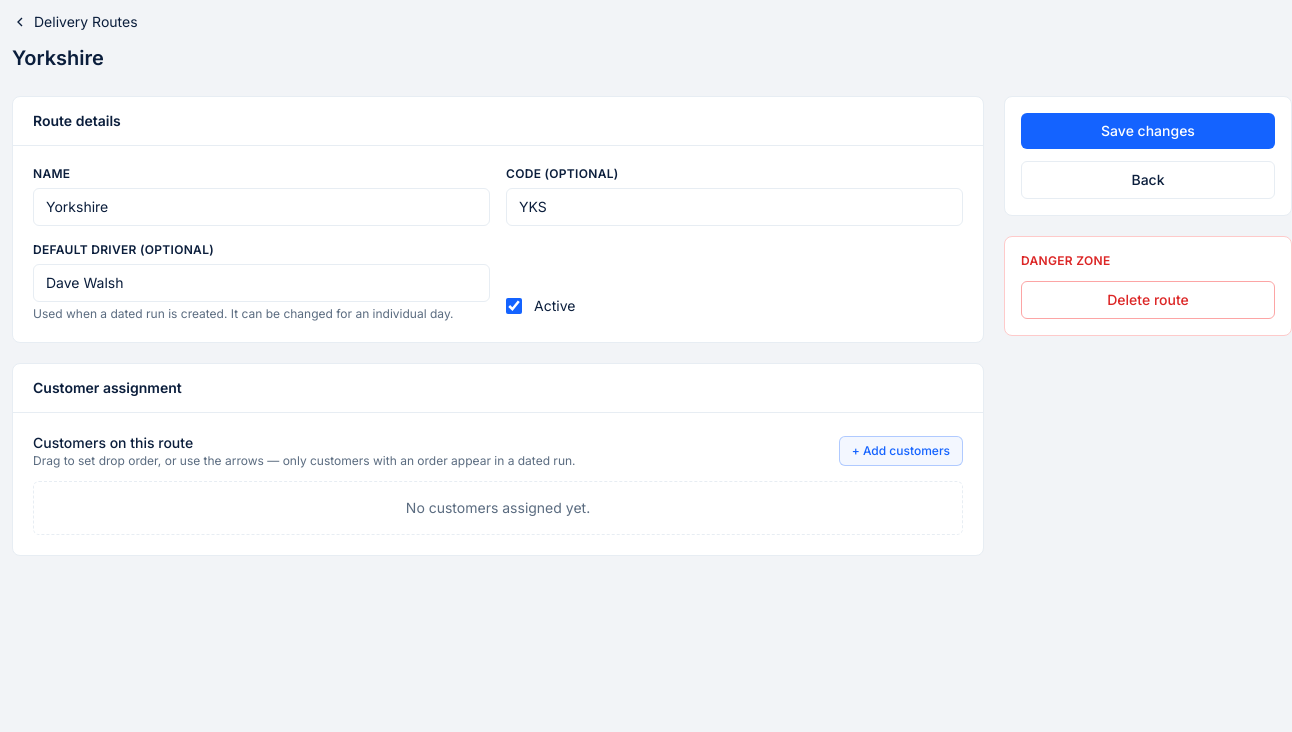
Test: DeliveryRouteForm › shows an error banner when saving fails
This screenshot has width=1292, height=732.
Click the button "Save changes".
click(1148, 131)  # box [1021,113,1275,149]
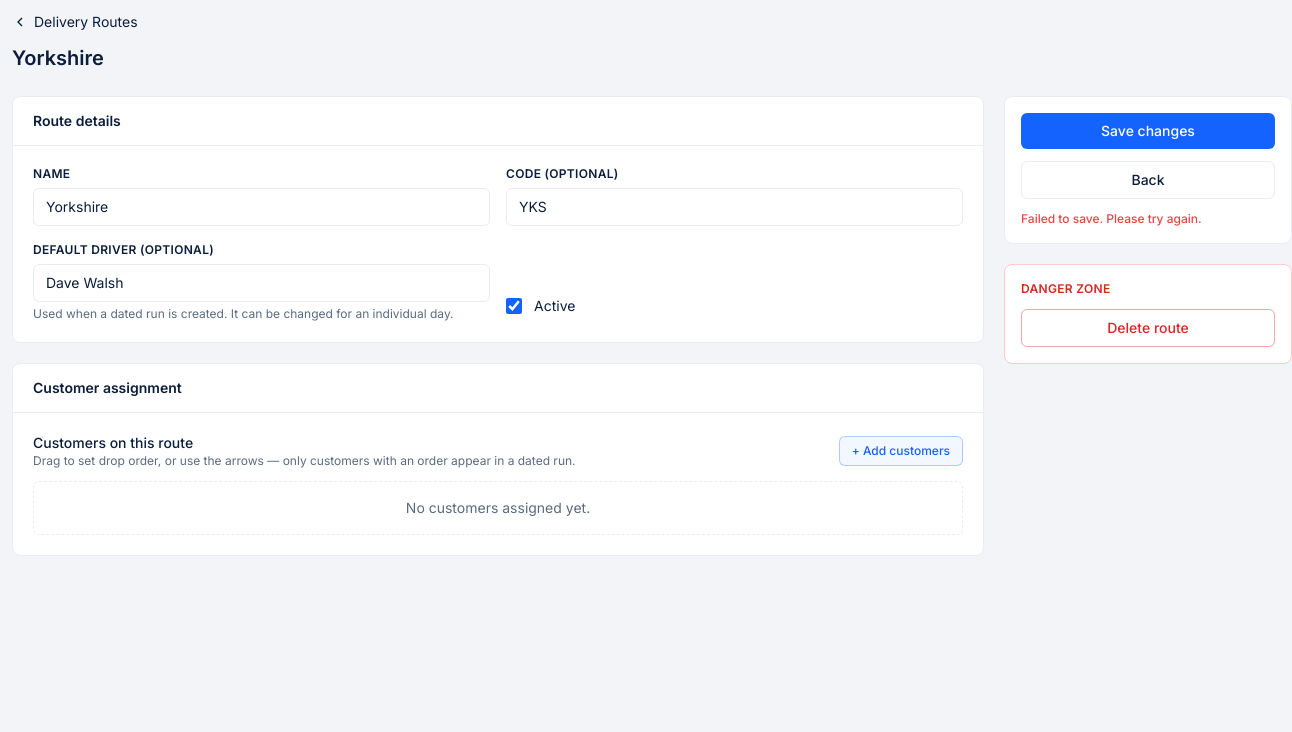
Now the text "Failed to save. Please try again." is shown, box [1021,211,1202,226]
